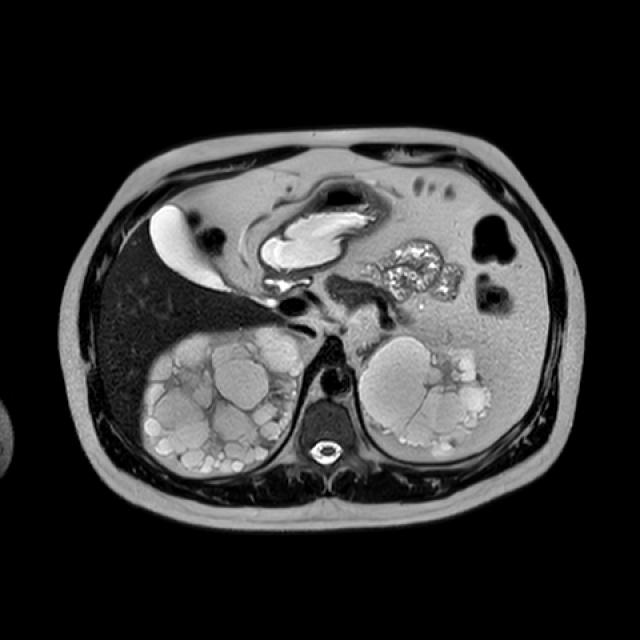sag: (144, 325, 302, 473)
sol: (361, 334, 492, 458)
